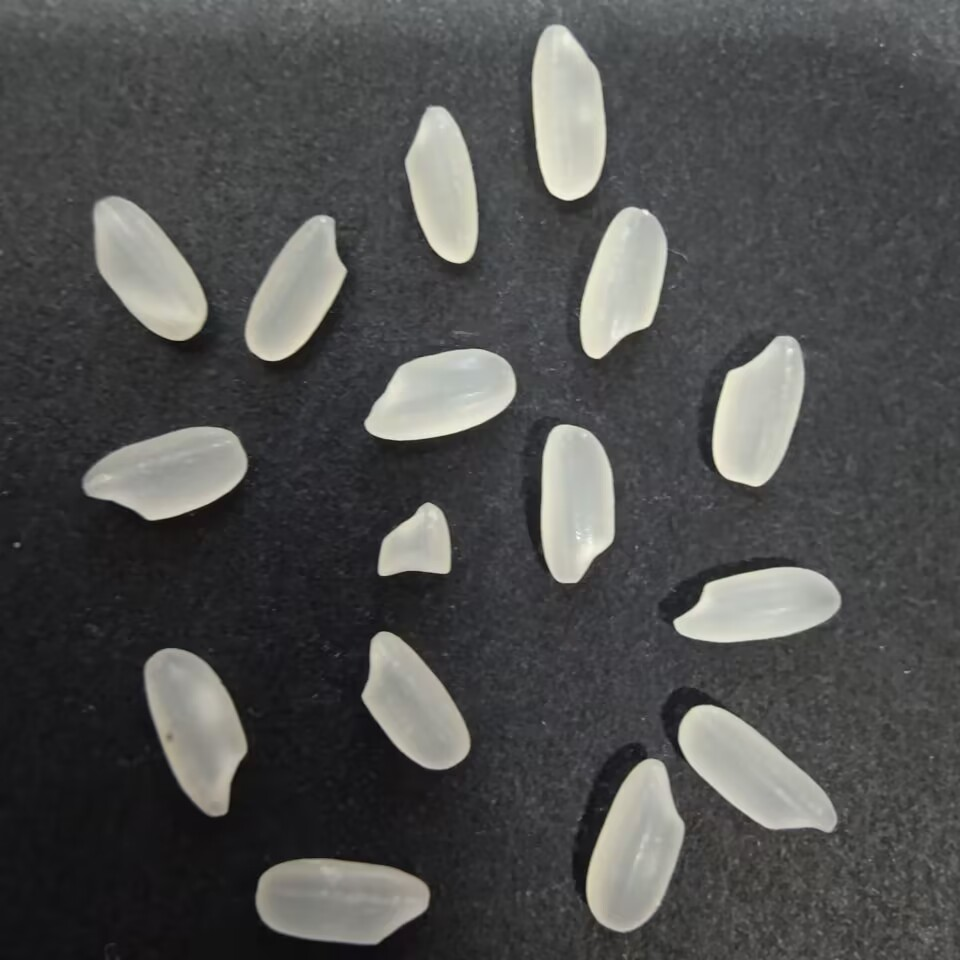broken: (370, 495, 456, 584)
rice: (676, 697, 844, 842), (140, 642, 253, 823), (579, 756, 689, 932), (85, 194, 211, 345), (76, 418, 251, 525), (252, 850, 435, 949), (355, 625, 472, 778), (701, 328, 807, 488), (241, 208, 350, 363), (523, 13, 608, 208), (357, 344, 521, 445), (575, 201, 673, 366), (663, 560, 844, 646), (537, 419, 621, 590), (401, 98, 482, 268)
